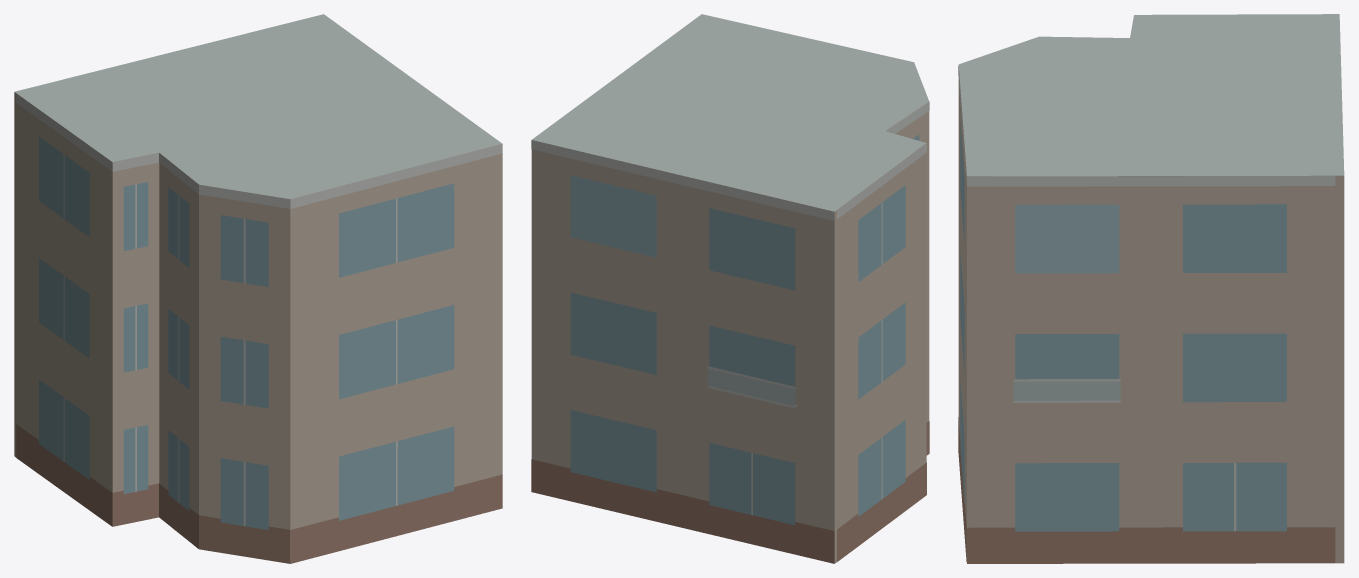
The model's file is survey-upis-32689400.glb.
The picture shows the model from 3 angles, left to right: view 1: azimuth 30°, elevation 25°; view 2: azimuth 150°, elevation 25°; view 3: azimuth 270°, elevation 25°; orthographic projection. The views are drawn at different scales.
Visible parts, largest first — view 1: survey-upis-32689400.tmp; view 2: survey-upis-32689400.tmp; view 3: survey-upis-32689400.tmp.
Part boxes in pixels (x1,y1,x2,y2): survey-upis-32689400.tmp: (14, 14, 502, 563); survey-upis-32689400.tmp: (531, 14, 929, 563); survey-upis-32689400.tmp: (958, 14, 1344, 563).
Bounding box in the file's own units: 8.26 × 9.15 × 8.27.
